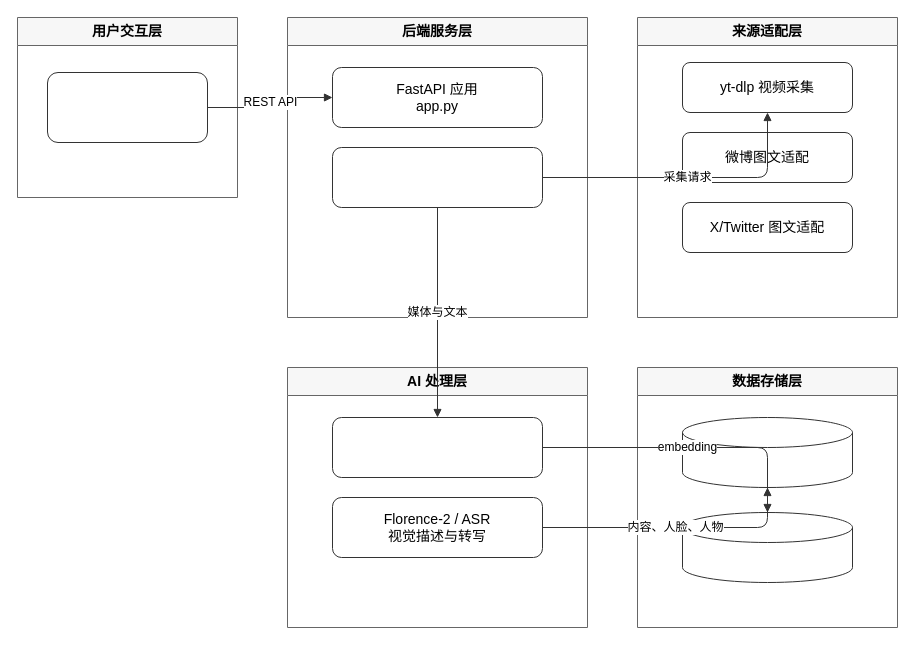
This 915x645 diagram has some shape labels left out. Here are the shapes that lost their labels. From the top down, the centre of each, then its label:
At pixel 127 107: "单页 Web 控制台 static/index.html".
At pixel 437 177: "采集任务调度 后台任务与维护锁".
At pixel 437 447: "InsightFace 人脸检测与 embedding".
At pixel 767 452: "SQLite 元数据".
At pixel 767 547: "FAISS 人脸向量索引".
